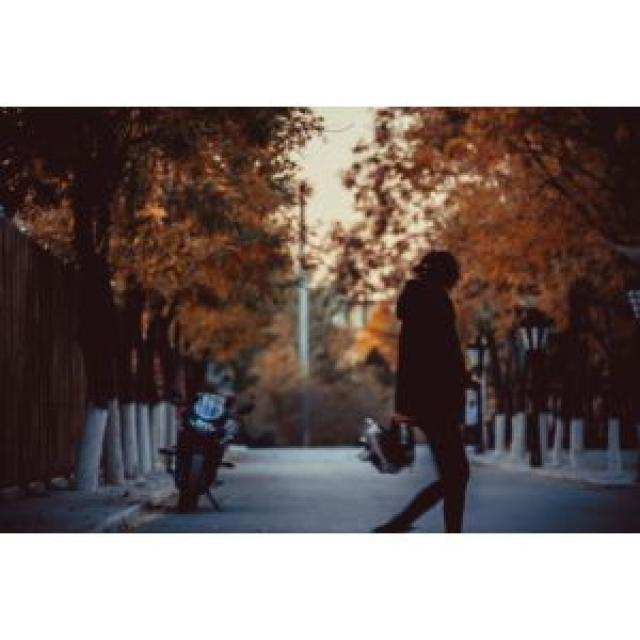nonfall: (387, 237, 513, 536)
